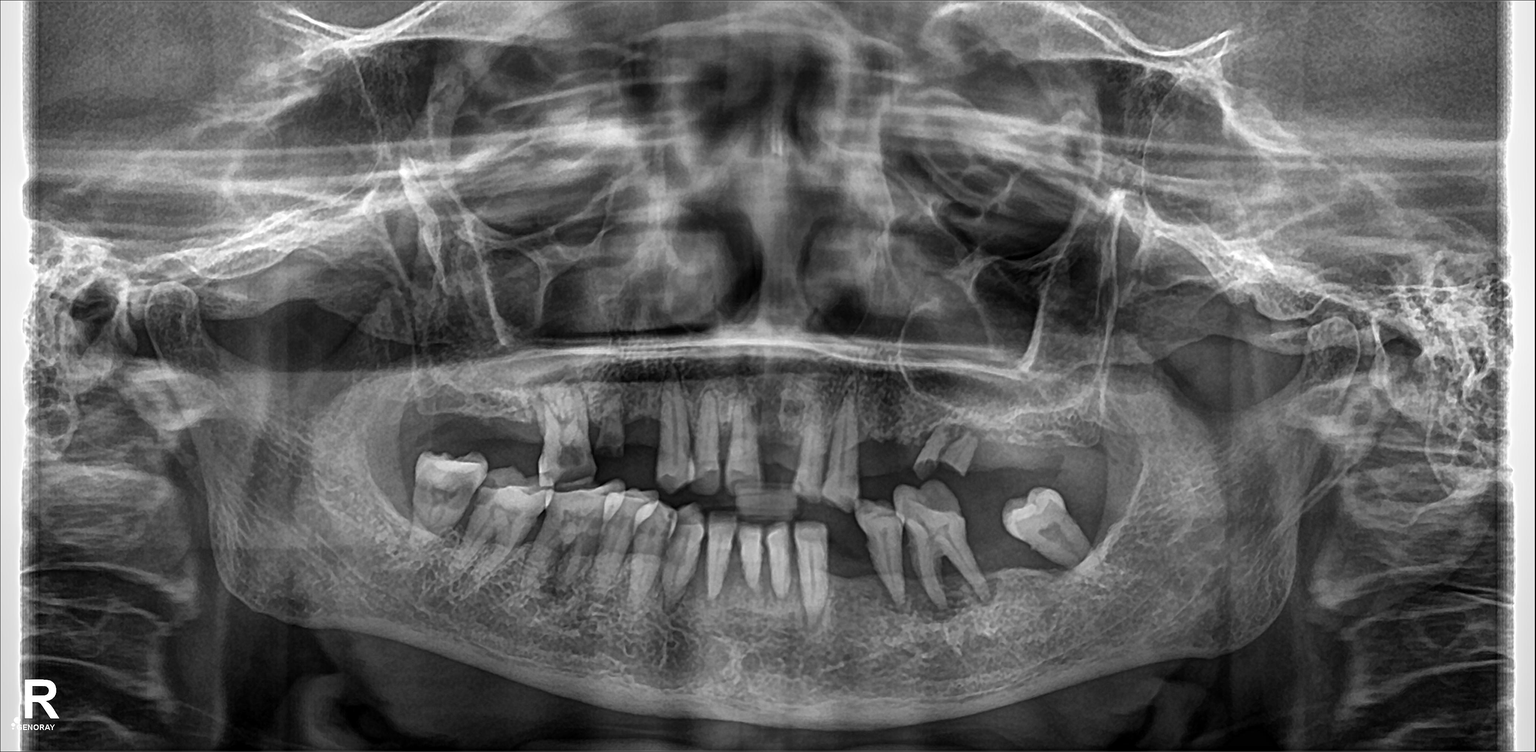Dental Caries: (553, 441, 584, 469)
Missing Tooth: (976, 510, 1021, 593), (769, 393, 805, 486), (1075, 486, 1126, 548), (836, 519, 878, 594), (976, 404, 1022, 471), (1058, 378, 1094, 463), (451, 369, 493, 441), (378, 441, 413, 526), (497, 369, 536, 439), (1028, 389, 1056, 472), (406, 367, 442, 428), (864, 410, 897, 462), (631, 404, 656, 456)
Retained Root: (911, 408, 977, 483), (588, 389, 624, 457)
